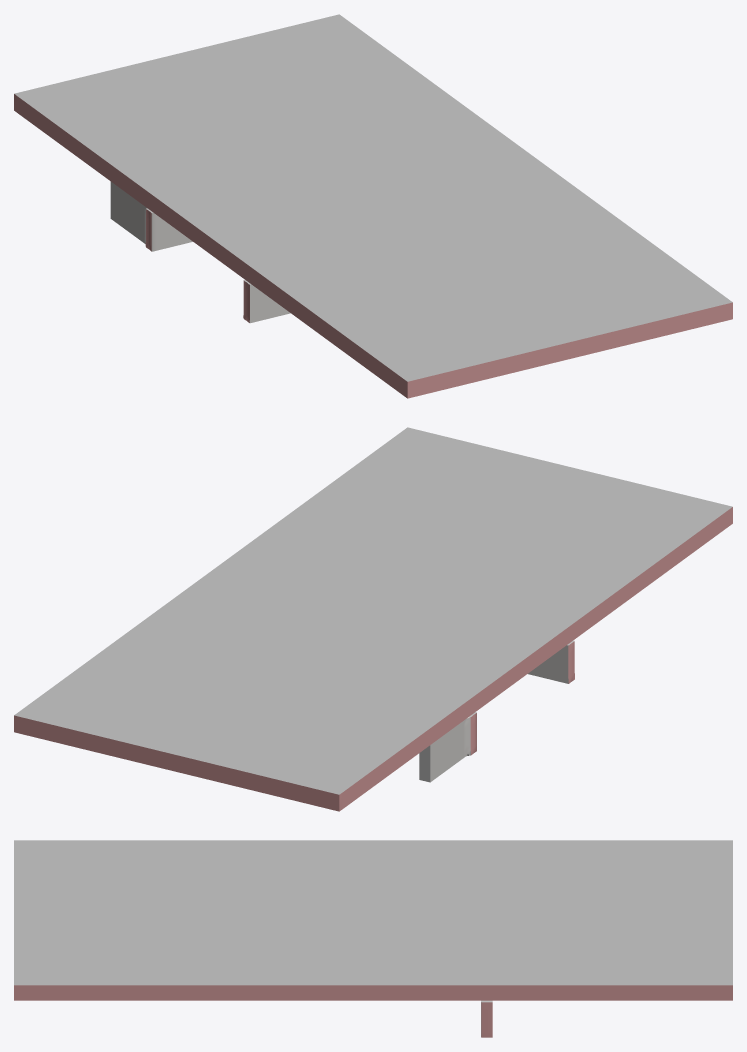
The model's file is 21a96bfe-1d2f-4913-a727-8c72a07cf272-003cf9e2.glb.
3 views of the same model, one above another, from view 1: azimuth 30°, elevation 25°; view 2: azimuth 150°, elevation 25°; view 3: azimuth 270°, elevation 25° (orthographic). The views are drawn at different scales.
Parts seen in each view (by area): view 1: sopnet4; view 2: sopnet4; view 3: sopnet4.
Boxes of the visible parts, bbox=[...] form: sopnet4: bbox=[14, 14, 732, 398]; sopnet4: bbox=[14, 427, 732, 811]; sopnet4: bbox=[14, 840, 732, 1037].
Bounding box in the file's own units: 3.66 × 0.6139 × 7.66.
